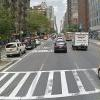Crosswalk: (6, 60, 93, 99)
